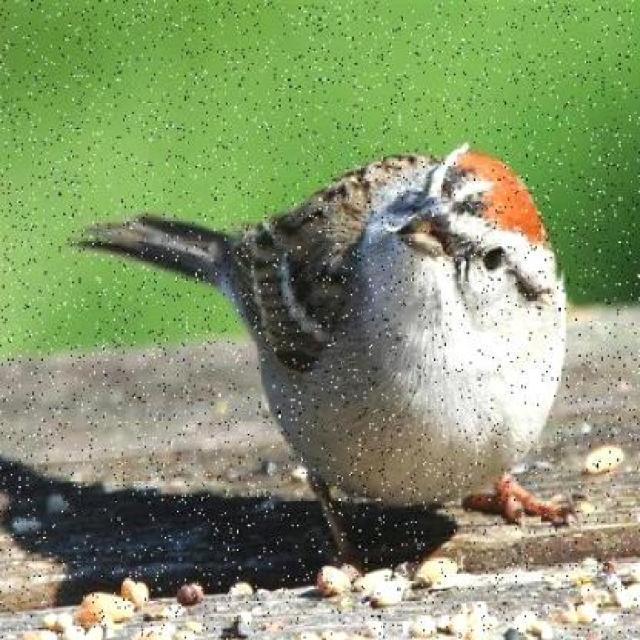Bird: (56, 112, 589, 577)
